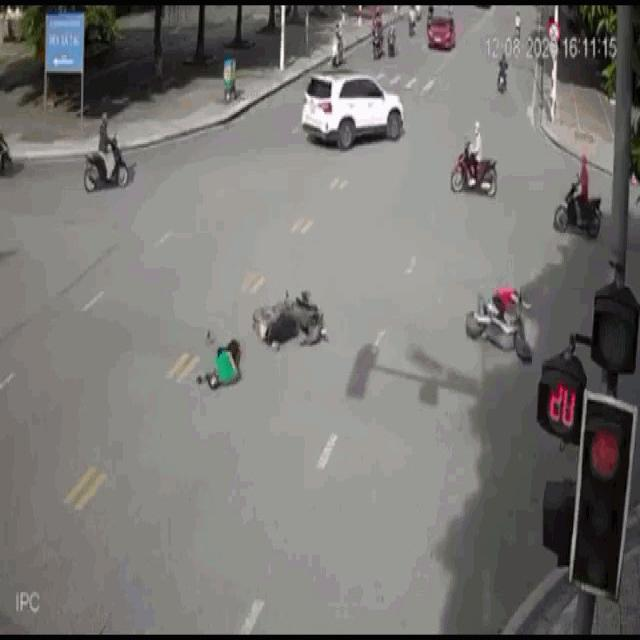multiple_accident: (194, 289, 327, 394), (461, 276, 536, 377)
